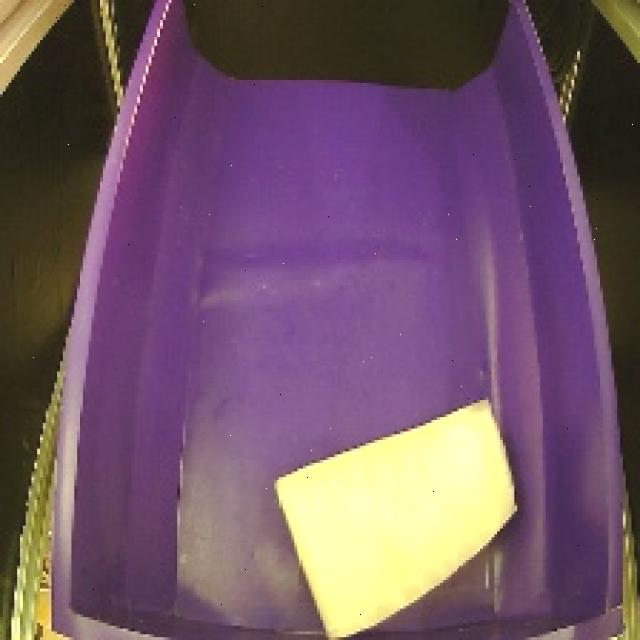white_radish: (263, 377, 526, 640)
